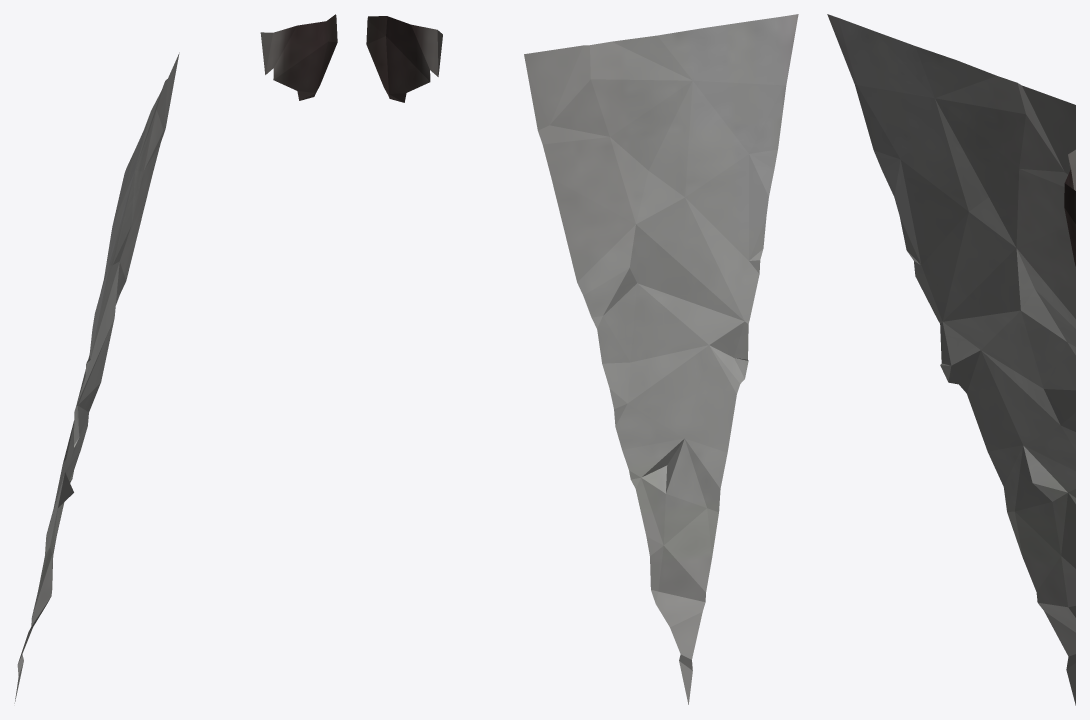
The picture shows the model from 3 angles, left to right: view 1: azimuth 30°, elevation 25°; view 2: azimuth 150°, elevation 25°; view 3: azimuth 270°, elevation 25°; orthographic projection. The views are drawn at different scales.
Size of the model in its own units: 0.347 by 0.6291 by 0.2049.
1 material, 1 textured.
